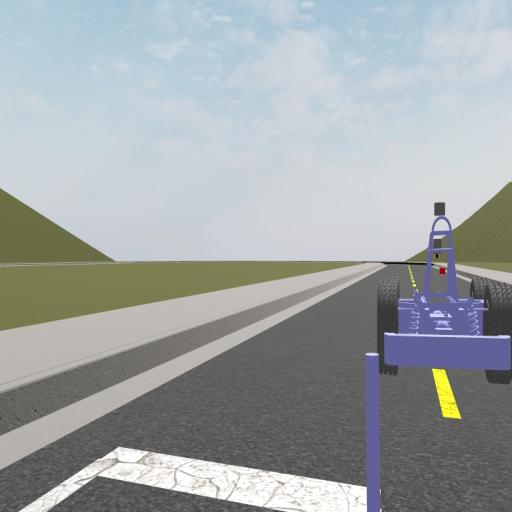ERP-42: (376, 200, 512, 386)
